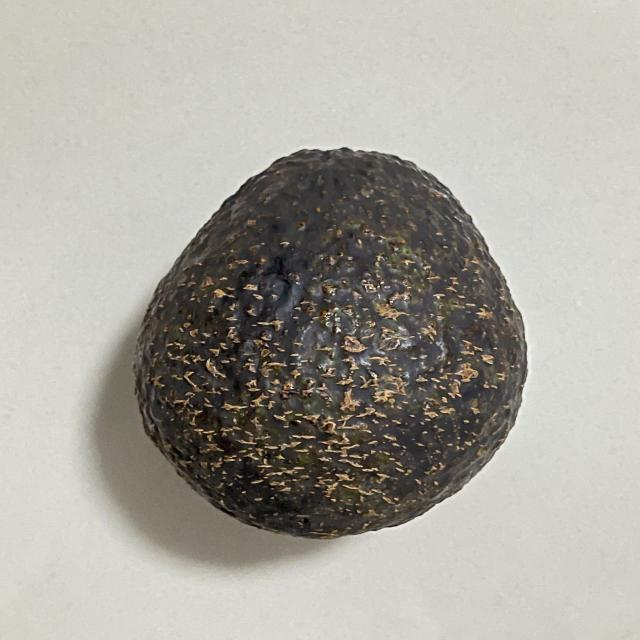Level2: (129, 142, 532, 542)
